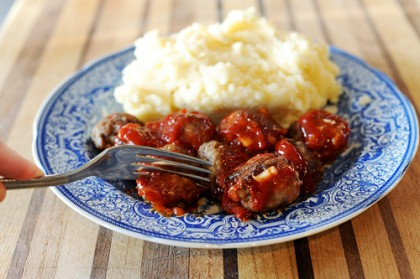meatballs: (236, 154, 292, 208), (144, 153, 197, 203), (221, 111, 276, 150), (298, 109, 347, 152), (96, 115, 152, 150), (161, 115, 210, 149)
